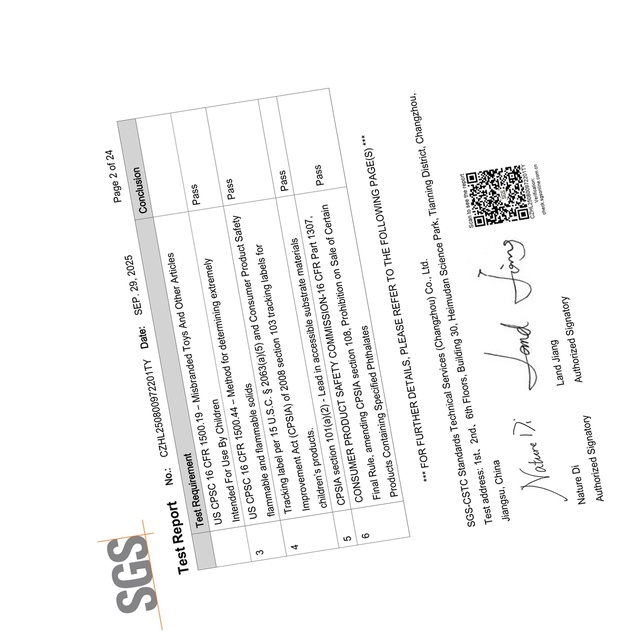sgs: (107, 535, 157, 614)
